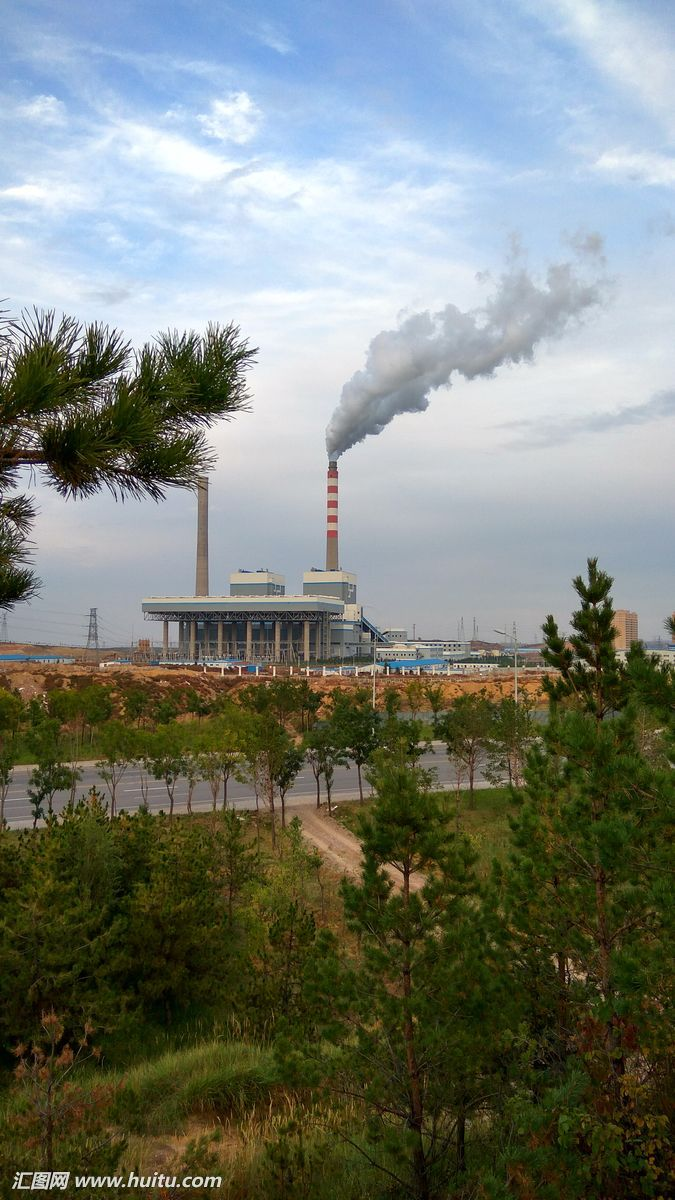dust: (309, 256, 526, 480)
